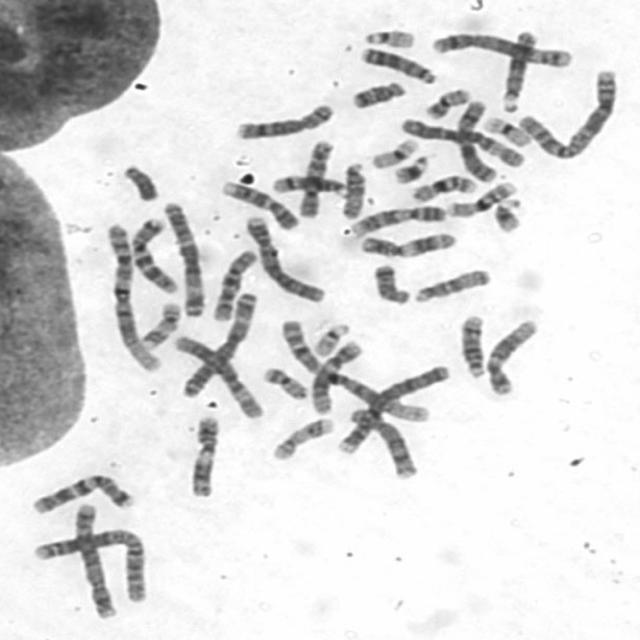A1: (274, 313, 436, 424), (102, 218, 166, 375)
A2: (513, 64, 621, 161), (30, 524, 154, 604)
A3: (177, 286, 262, 398), (158, 196, 208, 319)
B4: (330, 359, 452, 456), (241, 212, 328, 304)
B5: (69, 498, 119, 620), (428, 28, 576, 69)
C10: (208, 245, 260, 323), (294, 136, 337, 220)
C11: (184, 410, 223, 499), (356, 229, 458, 260)
C12: (481, 314, 542, 397), (306, 335, 366, 416)
C6: (170, 331, 268, 420), (395, 114, 527, 169)
C7: (28, 470, 139, 515), (125, 212, 182, 296)
C8: (344, 403, 421, 481), (231, 100, 338, 142)
C9: (220, 176, 302, 231), (344, 200, 449, 238)
D13: (497, 27, 539, 114), (355, 41, 439, 84)
D14: (454, 310, 490, 380), (268, 172, 348, 198)
D15: (409, 263, 494, 305), (337, 157, 368, 220)
E16: (444, 177, 521, 219), (408, 171, 478, 204)
E17: (266, 413, 338, 462), (136, 298, 184, 350)
E18: (345, 75, 408, 110), (369, 258, 414, 306)
F19: (365, 133, 422, 170), (479, 112, 534, 149)
F20: (258, 363, 310, 401), (421, 84, 473, 120)
G21: (489, 194, 527, 235), (389, 150, 431, 185)
G22: (308, 318, 354, 357), (359, 22, 419, 50)
X: (454, 97, 499, 183)
Y: (118, 160, 162, 203)
